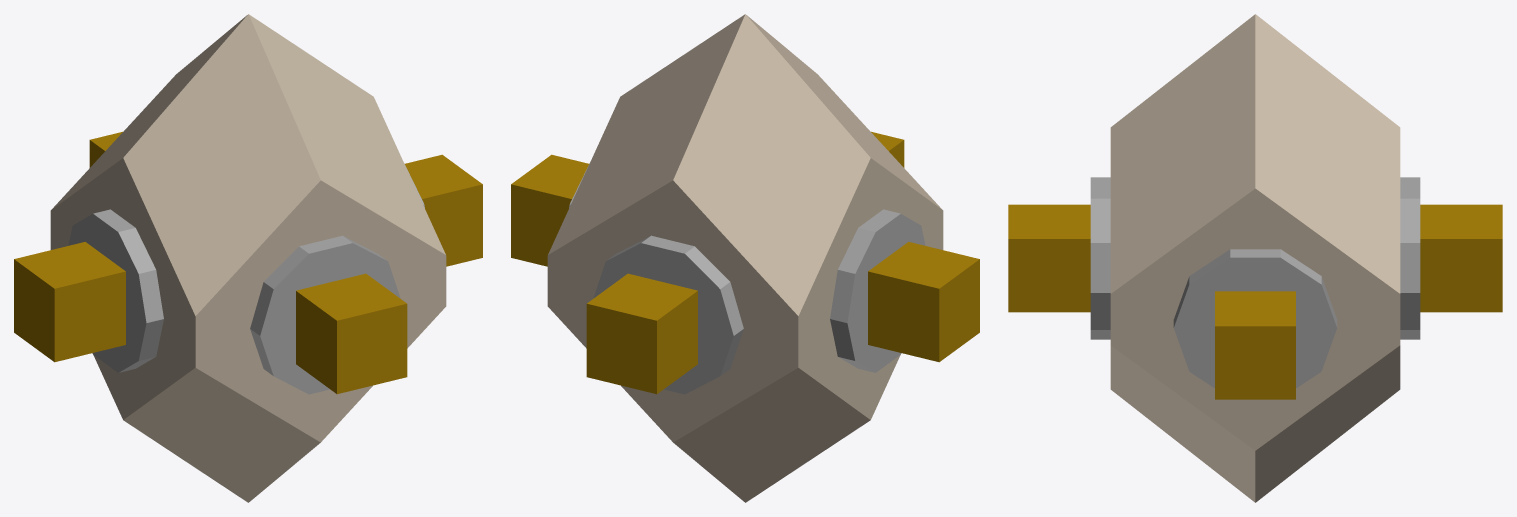
File: Mine.fbx
The picture shows the model from 3 angles, left to right: view 1: azimuth 30°, elevation 25°; view 2: azimuth 150°, elevation 25°; view 3: azimuth 270°, elevation 25°; orthographic projection.
Visible parts, largest first — view 1: Mine; view 2: Mine; view 3: Mine.
Part boxes in pixels (<box>): Mine: <box>14,14,482,502</box>; Mine: <box>511,14,979,502</box>; Mine: <box>1008,14,1502,502</box>.
Size of the model in its own units: 1.71 by 1.86 by 1.71.
